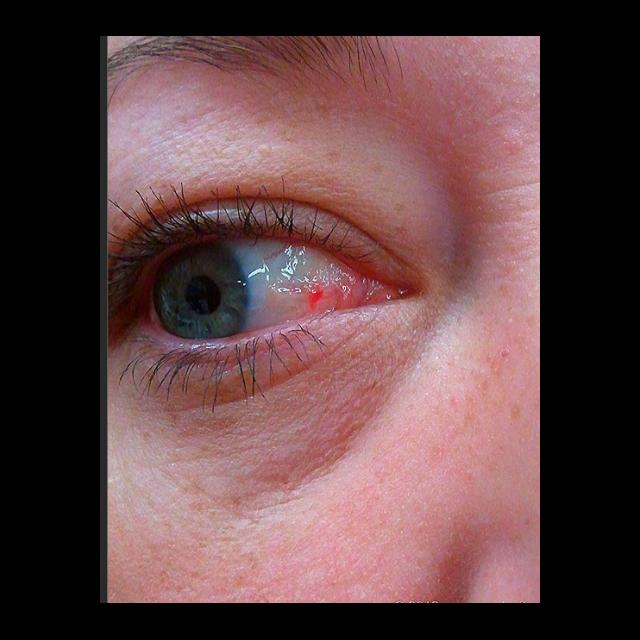eye: (137, 243, 357, 342)
iris: (150, 244, 252, 338)
